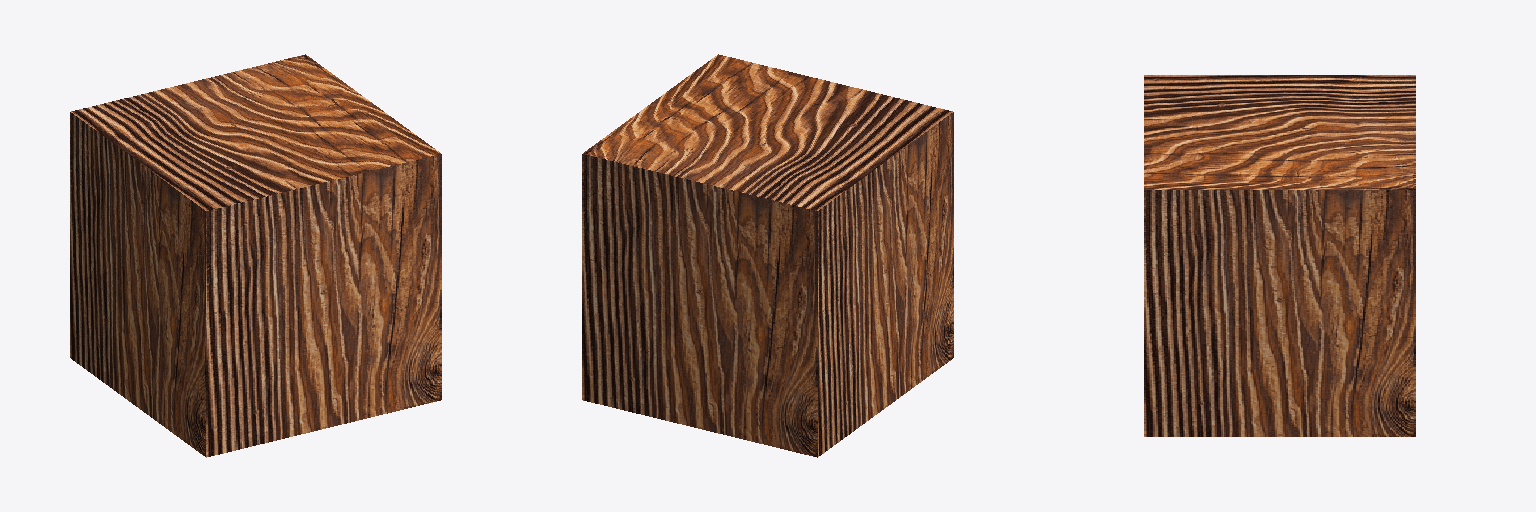
3 renders of one model, left to right at view 1: azimuth 30°, elevation 25°; view 2: azimuth 150°, elevation 25°; view 3: azimuth 270°, elevation 25°, orthographic.
Parts seen in each view (by area): view 1: cube; view 2: cube; view 3: cube.
Part boxes in pixels (bbox=[...]): cube: bbox=[70, 54, 441, 457]; cube: bbox=[582, 54, 953, 457]; cube: bbox=[1144, 75, 1415, 436].
Bounding box in the file's own units: 1 × 1 × 1.
1 materials, 1 textured.